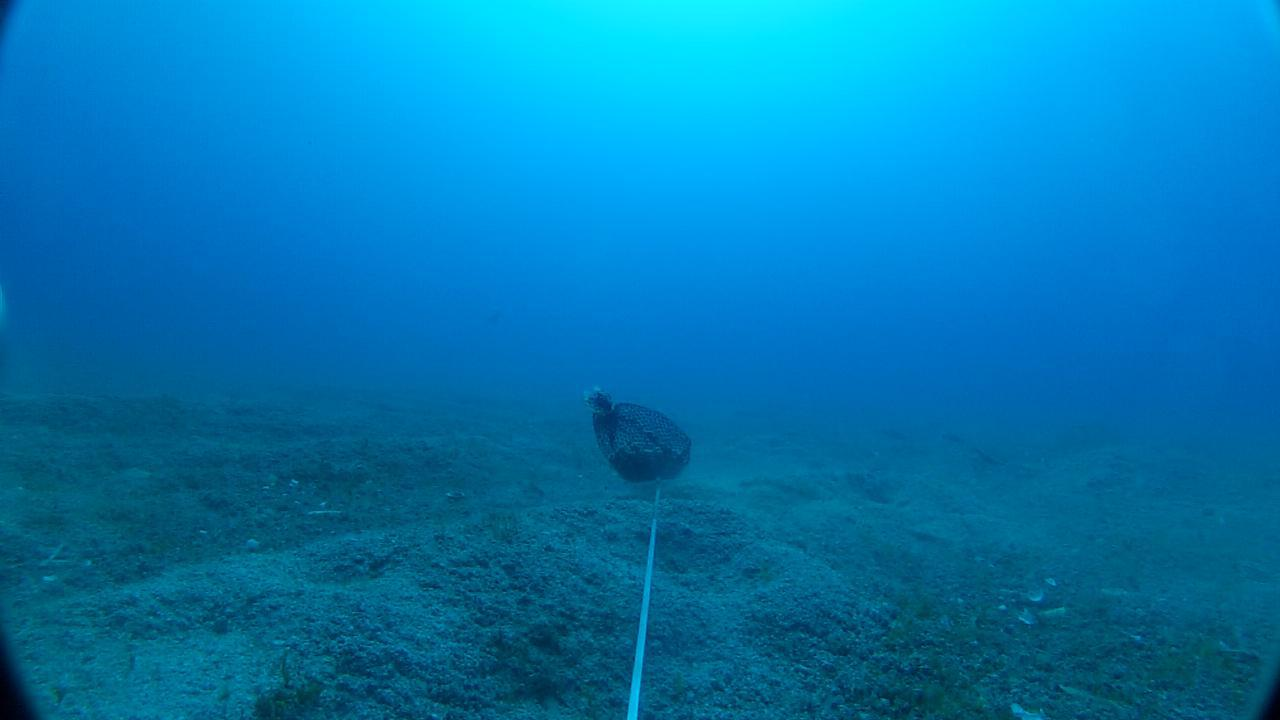bothus: (900, 513, 973, 544)
